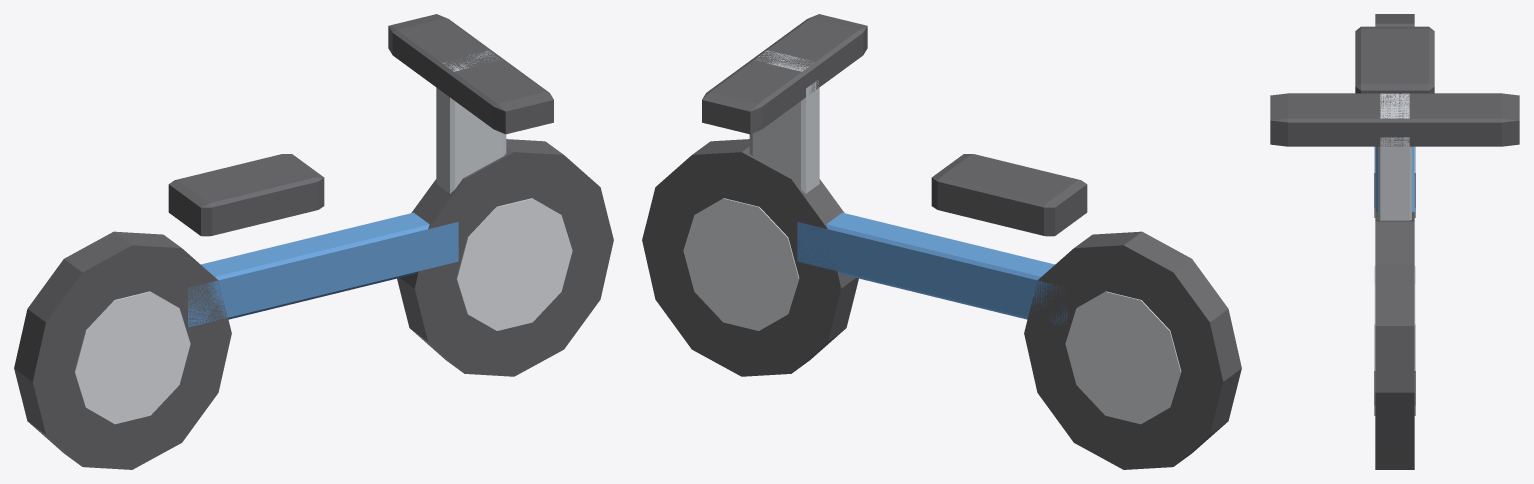
Rendered from b03_stunt_bmx_bicycle.glb.
3 views of the same model, side by side, from view 1: azimuth 30°, elevation 25°; view 2: azimuth 150°, elevation 25°; view 3: azimuth 270°, elevation 25° (orthographic). The views are drawn at different scales.
Visible parts, largest first — view 1: b03_stunt_bmx_bicycle; view 2: b03_stunt_bmx_bicycle; view 3: b03_stunt_bmx_bicycle.
Part boxes in pixels (bbox=[...]): b03_stunt_bmx_bicycle: bbox=[14, 14, 613, 469]; b03_stunt_bmx_bicycle: bbox=[642, 14, 1241, 469]; b03_stunt_bmx_bicycle: bbox=[1270, 14, 1519, 469].
Bounding box in the file's own units: 1.63 × 0.85 × 0.57.
